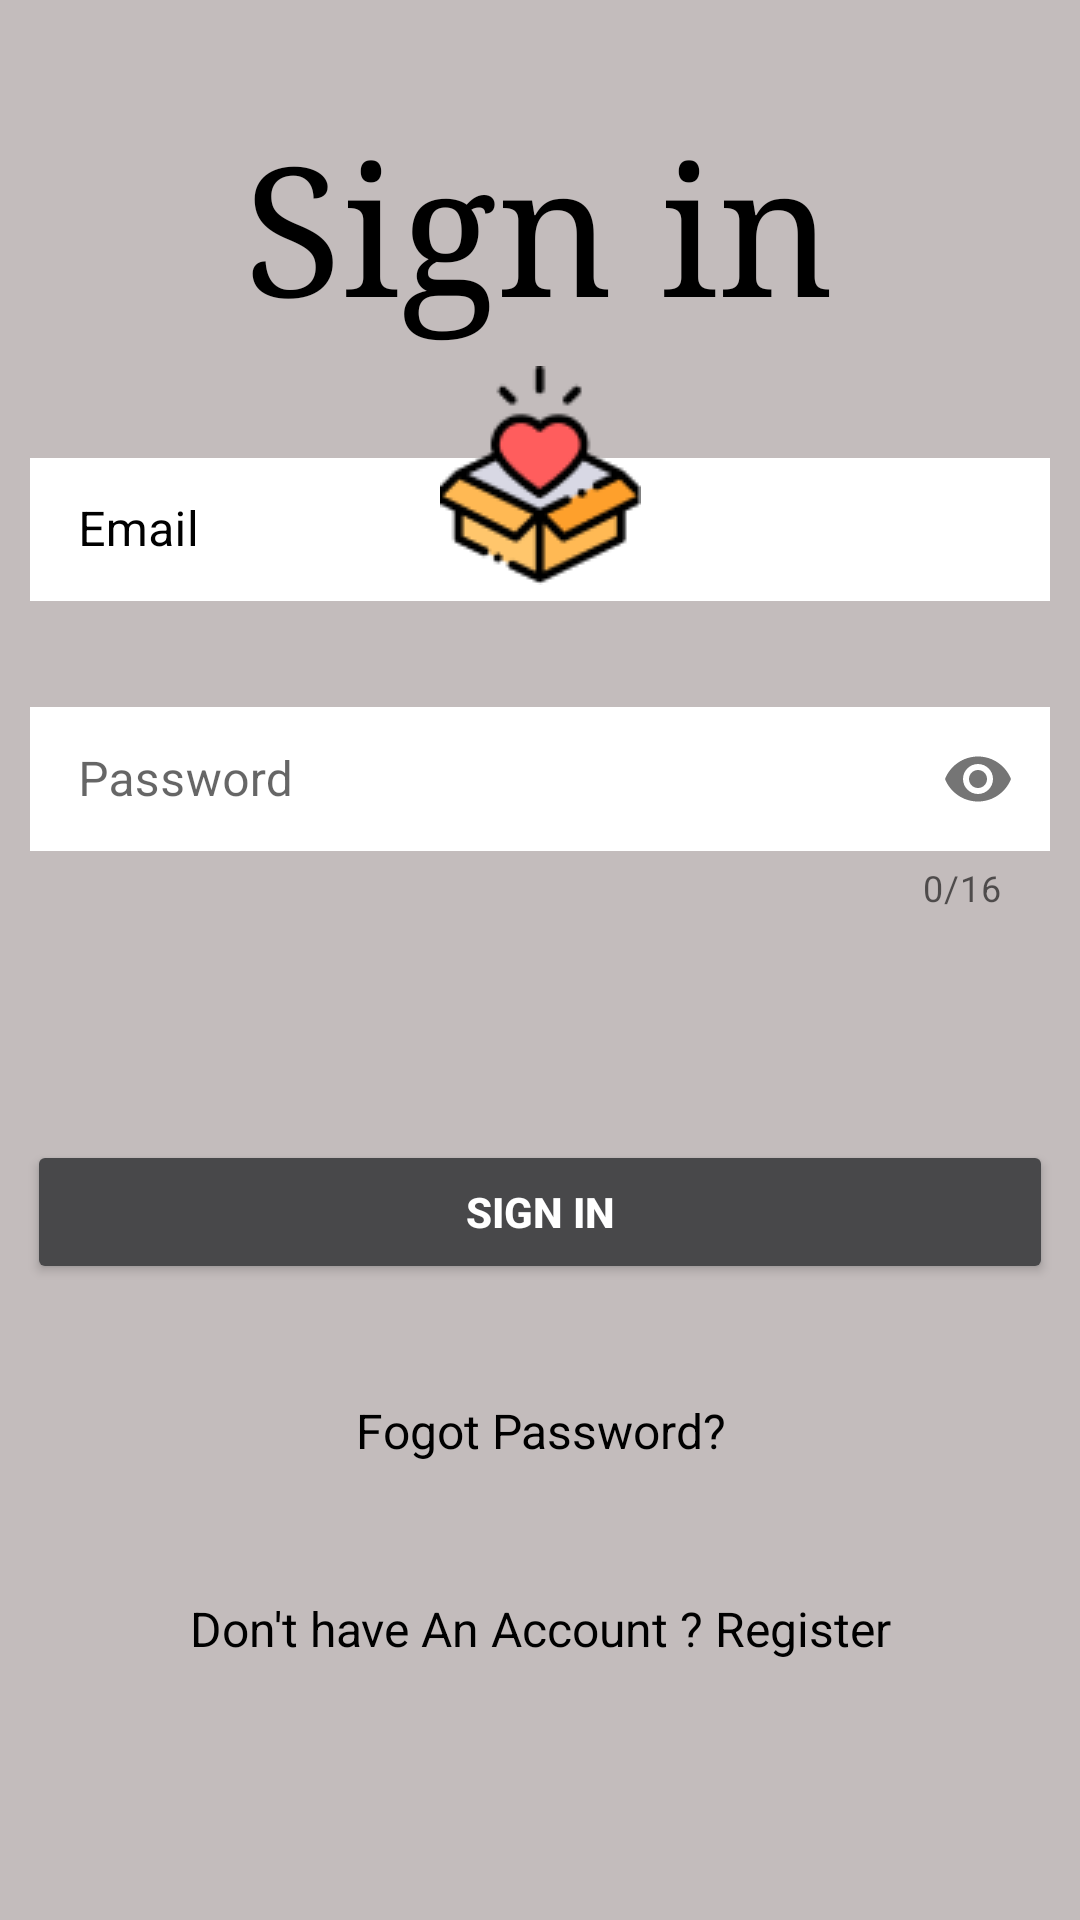

Icon click points for this 1080 × 1920 phone screenshot, format [x,y]:
donate: [540,475]
